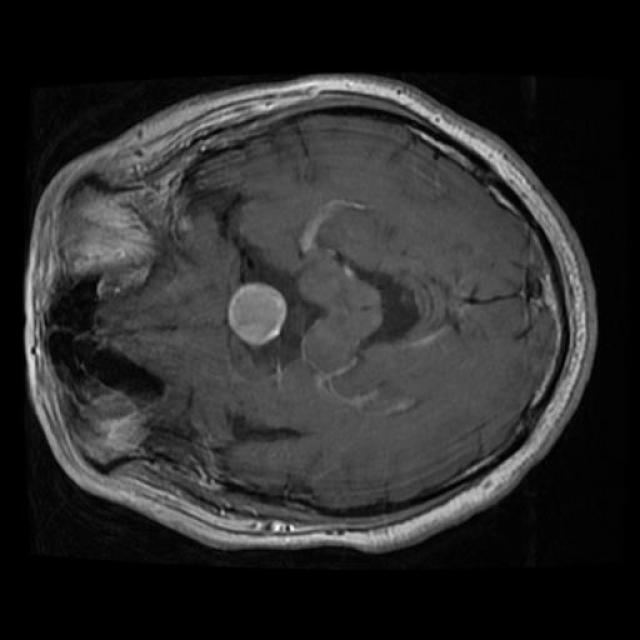Pituitary: (228, 282, 286, 346)
